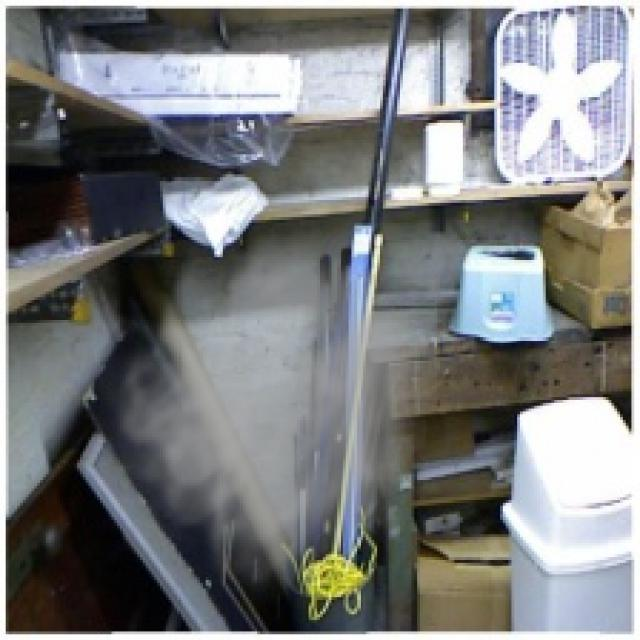Smoke: (77, 220, 437, 603)
